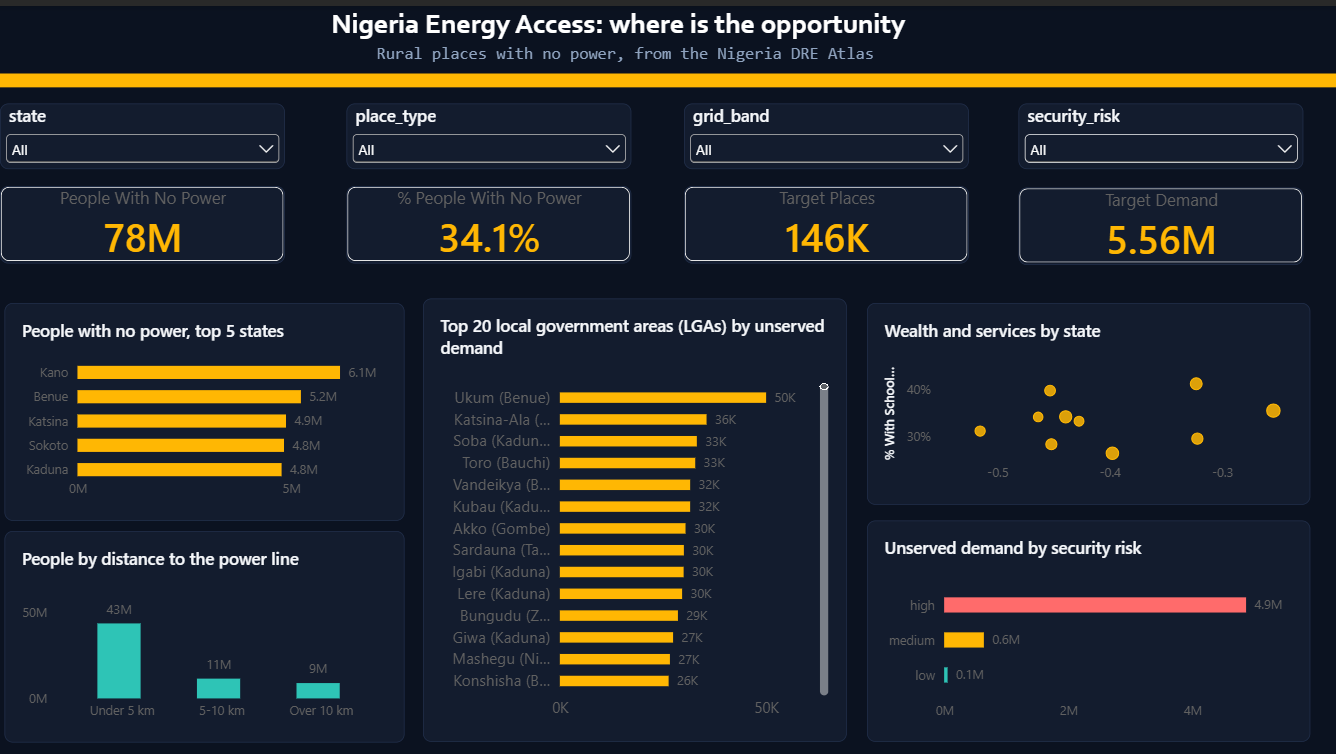

Layout of this report page (visuals, bound fields, positions):
{"tool":"powerbi","page":{"name":"Page 1","canvas":[1280,720],"ordinal":0},"visuals":[{"type":"cardVisual","fields":{"Data":["All Measures.People No Power"]},"box":[0,172,272.1,73.7],"z":0},{"type":"shape","box":[0,64.3,1279.4,13.2],"z":1000},{"type":"textbox","box":[139.8,0,900,36],"z":2000},{"type":"textbox","box":[359.1,35.9,900,24],"z":3000},{"type":"slicer","fields":{"Values":["settlements.state"]},"box":[0,92.6,272.1,62.4],"z":4000},{"type":"slicer","fields":{"Values":["settlements.place_type"]},"box":[330.7,92.6,272.1,62.4],"z":5000},{"type":"slicer","fields":{"Values":["settlements.grid_band"]},"box":[653.9,92.6,272.1,62.4],"z":6000},{"type":"slicer","fields":{"Values":["settlements.security_risk"]},"box":[973.2,92.6,272.1,62.4],"z":7000},{"type":"cardVisual","fields":{"Data":["All Measures.% People No Power"]},"box":[330.7,172,272.1,73.7],"z":8000},{"type":"cardVisual","fields":{"Data":["All Measures.Target Places"]},"box":[653.9,172,272.1,73.7],"z":9000},{"type":"cardVisual","fields":{"Data":["All Measures.Target Demand"]},"box":[973.2,173.9,272.1,73.7],"z":10000},{"type":"clusteredBarChart","title":"People with no power, top 5 states","fields":{"Category":["settlements.state"],"Y":["All Measures.People With No Power"]},"box":[3.8,283.5,381.7,207.9],"z":11000},{"type":"clusteredColumnChart","title":"People by distance to the power line","fields":{"Category":["settlements.grid_band"],"Y":["All Measures.Target People"]},"box":[3.8,500.8,381.7,202.2],"z":12000},{"type":"clusteredBarChart","title":"Top 20 local government areas (LGAs) by unserved demand","fields":{"Category":["settlements.LGA Label"],"Y":["All Measures.Target Demand"]},"box":[404.4,279.7,404.4,423.3],"z":13000},{"type":"scatterChart","title":"Wealth and services by state","fields":{"Category":["settlements.state"],"Size":["All Measures.Target People"],"X":["All Measures.Avg Wealth"],"Y":["All Measures.% With School or Clinic"]},"box":[827.7,283.5,423.3,192.8],"z":14000},{"type":"clusteredBarChart","title":"Unserved demand by security risk","fields":{"Category":["settlements.security_risk"],"Y":["All Measures.Target Demand"]},"box":[827.7,491.3,423.3,211.7],"z":15000}]}

Visuals, with their boxes in screenshot pixels (x1, y1, x2, y2), scaled from the page's 1280x720 canvas onto the 1336x754 screenshot:
cardVisual - All Measures.People No Power: BBox(0, 180, 284, 257)
shape: BBox(0, 67, 1335, 81)
textbox: BBox(146, 0, 1085, 38)
textbox: BBox(375, 38, 1314, 63)
slicer - settlements.state: BBox(0, 97, 284, 162)
slicer - settlements.place_type: BBox(345, 97, 629, 162)
slicer - settlements.grid_band: BBox(683, 97, 967, 162)
slicer - settlements.security_risk: BBox(1016, 97, 1300, 162)
cardVisual - All Measures.% People No Power: BBox(345, 180, 629, 257)
cardVisual - All Measures.Target Places: BBox(683, 180, 967, 257)
cardVisual - All Measures.Target Demand: BBox(1016, 182, 1300, 259)
"People with no power, top 5 states" clusteredBarChart: BBox(4, 297, 402, 515)
"People by distance to the power line" clusteredColumnChart: BBox(4, 524, 402, 736)
"Top 20 local government areas (LGAs) by unserved demand" clusteredBarChart: BBox(422, 293, 844, 736)
"Wealth and services by state" scatterChart: BBox(864, 297, 1306, 499)
"Unserved demand by security risk" clusteredBarChart: BBox(864, 515, 1306, 736)
